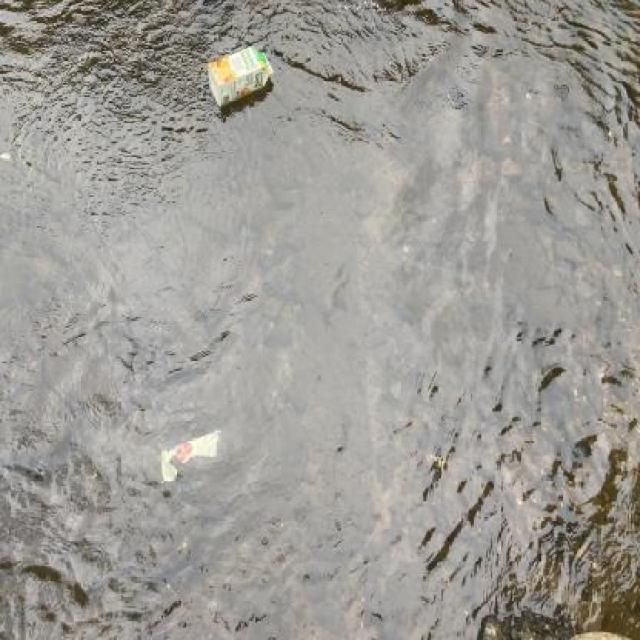Cardboard: (204, 41, 279, 116)
Plastic: (157, 422, 225, 487)
